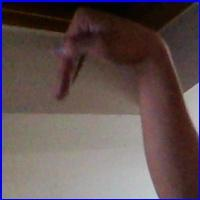A: (51, 4, 165, 106)
